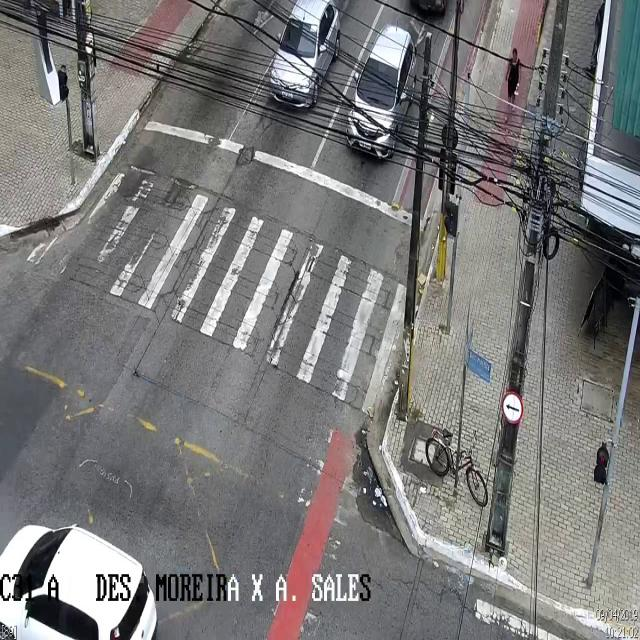Car: (0, 519, 161, 640), (346, 25, 418, 162), (271, 0, 338, 108)
